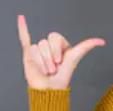clockwise: (13, 10, 109, 90)
